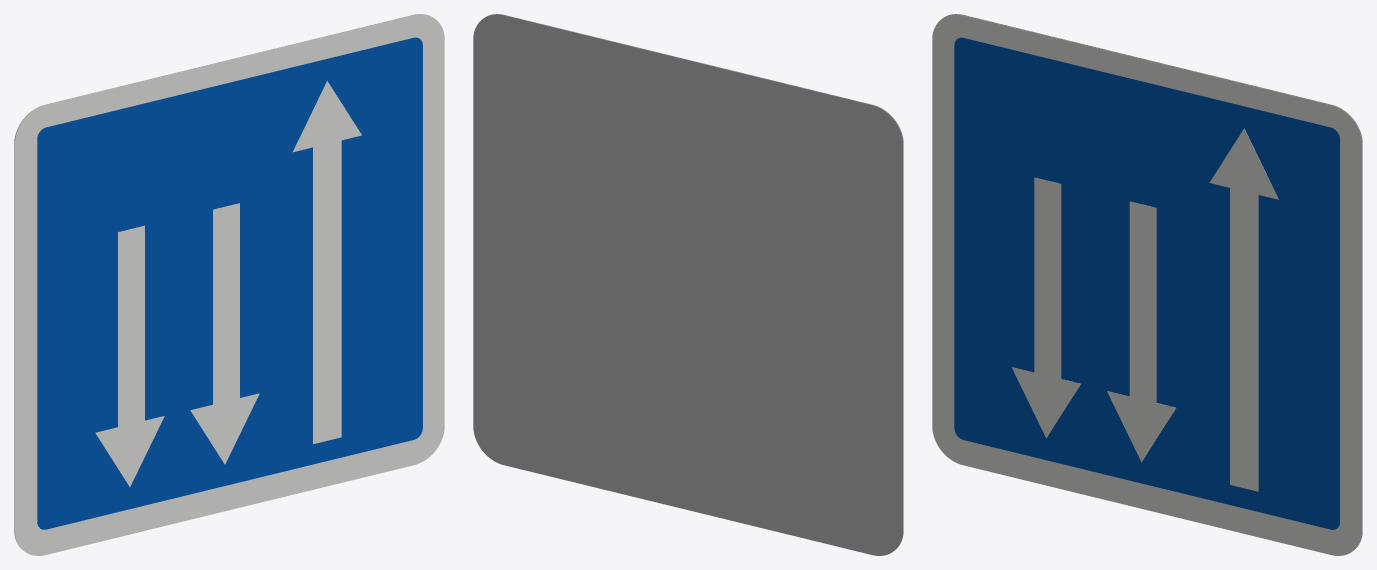
3 views of the same model, side by side, from view 1: azimuth 30°, elevation 25°; view 2: azimuth 150°, elevation 25°; view 3: azimuth 330°, elevation 25° (orthographic).
Parts seen in each view (by area): view 1: C29c_p01, C29c_p00, C29c_p02, C29c_p03, C29c_p04, C29c_dos; view 2: C29c_dos, C29c_p00; view 3: C29c_p01, C29c_p00, C29c_p02, C29c_p04, C29c_p03, C29c_dos.
Part boxes in pixels (left/top/right/bottom): C29c_p01: left=37, top=37, right=422, bottom=529; C29c_p00: left=14, top=14, right=444, bottom=555; C29c_p02: left=293, top=81, right=361, bottom=444; C29c_p03: left=190, top=203, right=259, bottom=464; C29c_p04: left=95, top=225, right=164, bottom=486; C29c_dos: left=14, top=14, right=431, bottom=547; C29c_dos: left=473, top=14, right=903, bottom=555; C29c_p00: left=486, top=14, right=903, bottom=547; C29c_p01: left=954, top=37, right=1339, bottom=529; C29c_p00: left=932, top=14, right=1362, bottom=555; C29c_p02: left=1209, top=128, right=1278, bottom=491; C29c_p04: left=1011, top=177, right=1080, bottom=438; C29c_p03: left=1107, top=201, right=1175, bottom=461; C29c_dos: left=945, top=14, right=1362, bottom=547.
Size of the model in its own units: 0.7 by 0.6999 by 0.0035.
